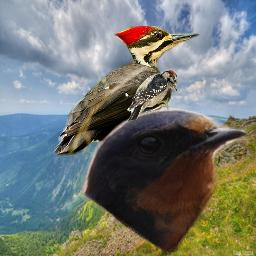Swallow: (81, 106, 253, 255)
Woodpecker: (54, 26, 202, 156), (123, 69, 177, 123)
